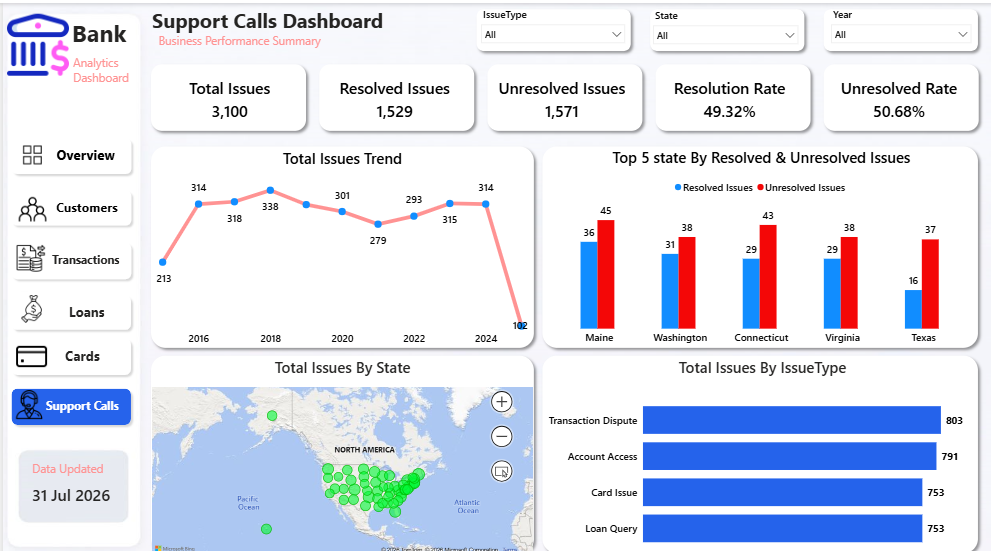

What the dashboard file says about the page in this screenshot:
{"tool":"powerbi","page":{"name":"Support Calls","canvas":[1600,900],"ordinal":5},"visuals":[{"type":"cardVisual","fields":{"Data":["Customer Service.Num_of_Issues"]},"box":[236,94.8,260,118],"z":0},{"type":"shape","box":[6,534,207.3,73.4],"z":0,"group":"g6"},{"type":"lineChart","title":"Total Issues Trend ","fields":{"Y":["Customer Service.Num_of_Issues"],"Category":["Calender.Day_Name","Calender.Month_Name","Calender.Quarter","Calender.Year"]},"box":[236,234,624,328],"z":1000},{"type":"image","box":[16,545,60,50],"z":1000,"group":"g6"},{"type":"clusteredColumnChart","title":"Top 5 state By Resolved & Unresolved Issues","fields":{"Category":["customers.State"],"Y":["Customer Service.Solved Issues","Customer Service.Unresolved Issues"]},"box":[874,232.3,698,328],"z":2000},{"type":"slicer","fields":{"Values":["Calender.Year"]},"box":[1326,1,246,74],"z":3000},{"type":"slicer","fields":{"Values":["customers.State"]},"box":[1038,4,254,68],"z":4000},{"type":"slicer","fields":{"Values":["SupportCalls.IssueType"]},"box":[762,1,252,74],"z":5000},{"type":"map","title":"Total Issues By State","fields":{"Category":["customers.State"],"Size":["Customer Service.Total Issues"]},"box":[235.5,571,624.2,329],"z":6000},{"type":"barChart","title":"Total Issues By IssueType","fields":{"Y":["Customer Service.Num_of_Issues"],"Category":["SupportCalls.IssueType"]},"box":[874.2,571,701.6,329],"z":7000},{"type":"cardVisual","fields":{"Data":["Customer Service.Today"]},"box":[18,750,206,82],"z":8000},{"type":"group","id":"g1","title":"Group 1","box":[6,212,208,72],"z":9000},{"type":"group","id":"g2","title":"Group 1","box":[6,295.5,208,72],"z":10000},{"type":"group","id":"g3","title":"Group 1","box":[6,379,208,74],"z":11000},{"type":"group","id":"g4","title":"Group 1","box":[6,464.5,208,70],"z":12000},{"type":"group","id":"g5","title":"Group 1","box":[6,614,208,72],"z":13000},{"type":"image","box":[6,12,100,112],"z":14000},{"type":"cardVisual","fields":{"Data":["Customer Service.Issues_Not_Solved"]},"box":[762,94.8,280,118],"z":15000},{"type":"cardVisual","fields":{"Data":["Customer Service.Issues Not_solved %"]},"box":[1314.4,94.6,261.5,118.7],"z":16000},{"type":"cardVisual","fields":{"Data":["Customer Service.Issues_Solved"]},"box":[502.4,94.6,260,118],"z":17000},{"type":"cardVisual","fields":{"Data":["Customer Service.Issues solved %"]},"box":[1042.6,94.6,260,118],"z":18000},{"type":"textbox","box":[236,0,390,94],"z":19000},{"type":"textbox","box":[106,18,106,76],"z":20000},{"type":"textbox","box":[108,78,116,76],"z":21000},{"type":"textbox","box":[42,732,150,44],"z":22000},{"type":"shape","box":[6,212,208,72],"z":23000,"group":"g1"},{"type":"shape","box":[6,295.5,208,71.2],"z":23000,"group":"g2"},{"type":"shape","box":[6,379,207.8,73.9],"z":23000,"group":"g3"},{"type":"shape","box":[6,464.5,207.3,70],"z":23000,"group":"g4"},{"type":"group","id":"g6","title":"Group 2","box":[6,534,208,74],"z":23000},{"type":"shape","box":[6,614,207.3,73.4],"z":23000,"group":"g5"},{"type":"image","box":[19.9,223.6,53.5,44.8],"z":24000,"group":"g1"},{"type":"image","box":[23.1,309.8,46.9,45.6],"z":24000,"group":"g2"},{"type":"image","box":[19.9,388.3,48.8,46.2],"z":24000,"group":"g3"},{"type":"image","box":[18.5,470.9,52.4,44.9],"z":24000,"group":"g4"},{"type":"image","box":[17.8,624.2,49.5,47],"z":24000,"group":"g5"}]}

Visuals, with their boxes on the page's 1600x900 design canvas (x1, y1, x2, y2). These are canvas units, not pixel positions in the 991x551 screenshot, which may show the page scaled, cropped or inside an application window:
cardVisual - Customer Service.Num_of_Issues: bbox=(236, 95, 496, 213)
shape: bbox=(6, 534, 213, 607)
"Total Issues Trend " lineChart: bbox=(236, 234, 860, 562)
image: bbox=(16, 545, 76, 595)
"Top 5 state By Resolved & Unresolved Issues" clusteredColumnChart: bbox=(874, 232, 1572, 560)
slicer - Calender.Year: bbox=(1326, 1, 1572, 75)
slicer - customers.State: bbox=(1038, 4, 1292, 72)
slicer - SupportCalls.IssueType: bbox=(762, 1, 1014, 75)
"Total Issues By State" map: bbox=(236, 571, 860, 900)
"Total Issues By IssueType" barChart: bbox=(874, 571, 1576, 900)
cardVisual - Customer Service.Today: bbox=(18, 750, 224, 832)
"Group 1" group: bbox=(6, 212, 214, 284)
"Group 1" group: bbox=(6, 296, 214, 368)
"Group 1" group: bbox=(6, 379, 214, 453)
"Group 1" group: bbox=(6, 464, 214, 534)
"Group 1" group: bbox=(6, 614, 214, 686)
image: bbox=(6, 12, 106, 124)
cardVisual - Customer Service.Issues_Not_Solved: bbox=(762, 95, 1042, 213)
cardVisual - Customer Service.Issues Not_solved %: bbox=(1314, 95, 1576, 213)
cardVisual - Customer Service.Issues_Solved: bbox=(502, 95, 762, 213)
cardVisual - Customer Service.Issues solved %: bbox=(1043, 95, 1303, 213)
textbox: bbox=(236, 0, 626, 94)
textbox: bbox=(106, 18, 212, 94)
textbox: bbox=(108, 78, 224, 154)
textbox: bbox=(42, 732, 192, 776)
shape: bbox=(6, 212, 214, 284)
shape: bbox=(6, 296, 214, 367)
shape: bbox=(6, 379, 214, 453)
shape: bbox=(6, 464, 213, 534)
"Group 2" group: bbox=(6, 534, 214, 608)
shape: bbox=(6, 614, 213, 687)
image: bbox=(20, 224, 73, 268)
image: bbox=(23, 310, 70, 355)
image: bbox=(20, 388, 69, 434)
image: bbox=(18, 471, 71, 516)
image: bbox=(18, 624, 67, 671)
